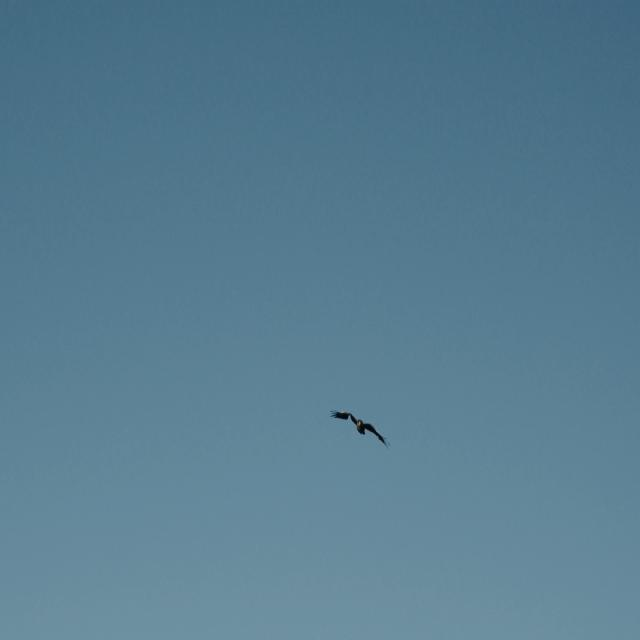bird: (324, 403, 391, 452)
